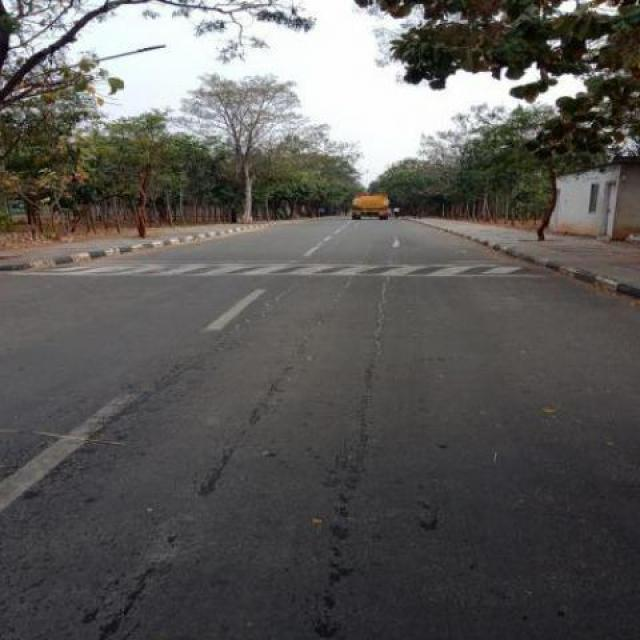Speed Bump: (2, 259, 550, 278)
